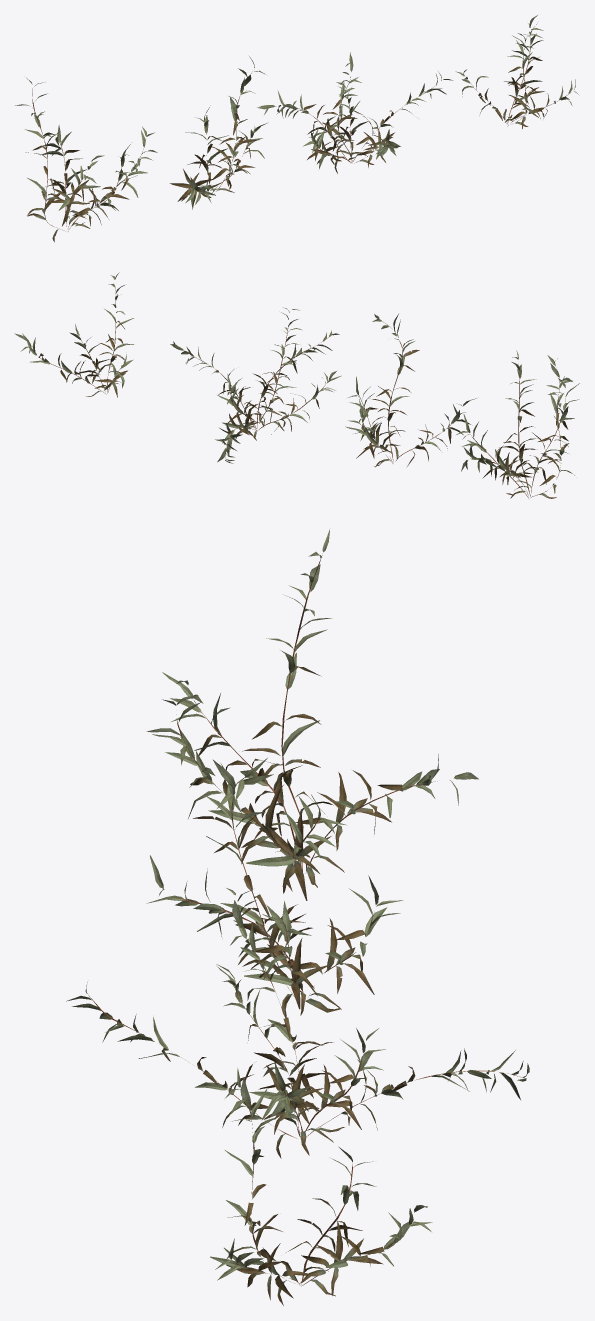
File: shrub_02.glb
3 views of the same model, one above another, from view 1: azimuth 30°, elevation 25°; view 2: azimuth 150°, elevation 25°; view 3: azimuth 270°, elevation 25° (orthographic). The views are drawn at different scales.
Visible parts, largest first — view 1: shrub_02_c, shrub_02_a, shrub_02_b, shrub_02_d; view 2: shrub_02_a, shrub_02_c, shrub_02_b, shrub_02_d; view 3: shrub_02_a, shrub_02_c, shrub_02_b, shrub_02_d.
Boxes of the visible parts, x1,y1,x2,y2 form: shrub_02_c: [257, 52, 453, 173]; shrub_02_a: [15, 78, 157, 242]; shrub_02_b: [170, 56, 268, 209]; shrub_02_d: [455, 15, 579, 128]; shrub_02_a: [456, 350, 579, 498]; shrub_02_c: [170, 307, 341, 463]; shrub_02_b: [345, 314, 476, 467]; shrub_02_d: [14, 272, 133, 397]; shrub_02_a: [146, 529, 478, 900]; shrub_02_c: [66, 888, 529, 1158]; shrub_02_b: [146, 758, 403, 1017]; shrub_02_d: [210, 1068, 432, 1305].
Size of the model in its own units: 6.05 by 1.7 by 2.29.
Materials: 1 (1 with a texture image).
